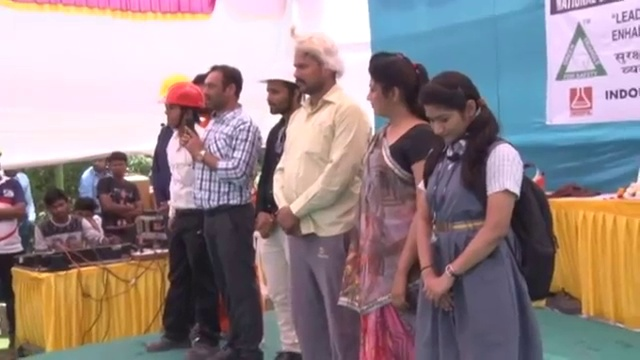helmet: (156, 80, 205, 111), (254, 59, 298, 86)
helmet_off: (421, 70, 485, 146), (366, 48, 424, 125), (288, 35, 345, 99), (195, 67, 243, 118), (43, 191, 70, 221), (73, 198, 99, 222), (108, 153, 129, 181), (91, 157, 107, 174)
helmet_on: (255, 60, 299, 117), (157, 81, 205, 132)
person: (413, 69, 555, 359), (271, 36, 372, 360), (180, 67, 266, 360), (359, 48, 438, 355), (141, 80, 221, 359), (254, 59, 300, 360), (32, 191, 119, 250), (0, 165, 26, 358), (95, 150, 143, 237), (78, 156, 114, 199)
